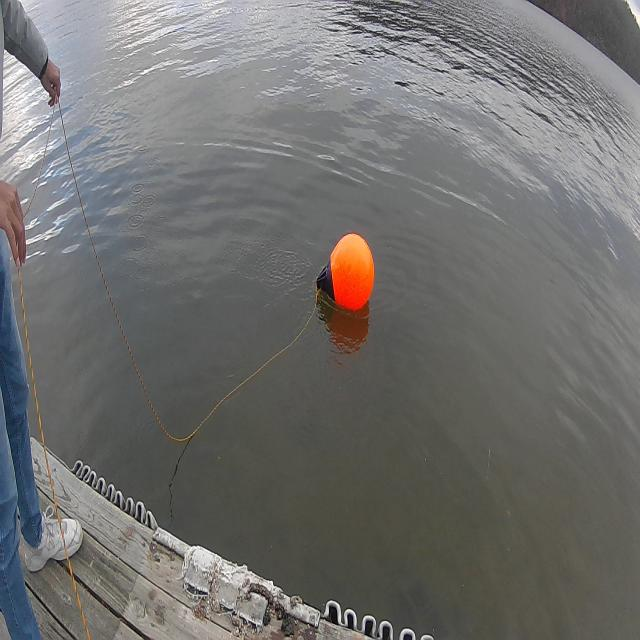Buoy: (312, 226, 377, 320)
